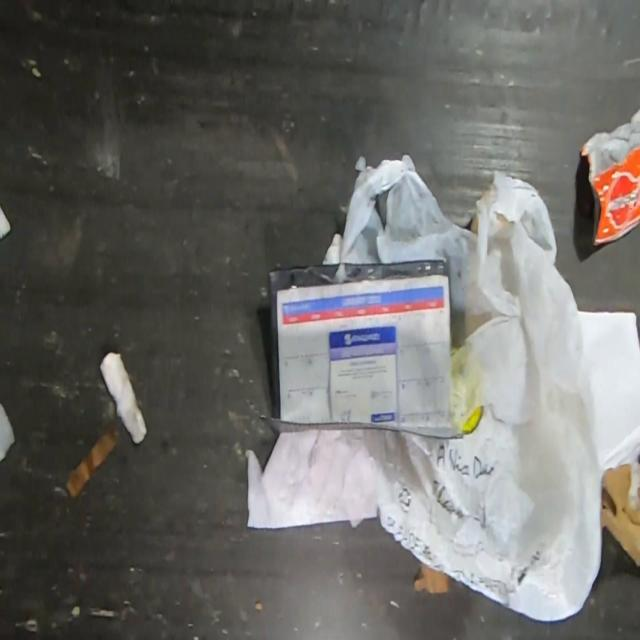cardboard: (601, 460, 640, 566)
soft_plastic: (339, 154, 603, 622), (258, 262, 464, 440), (580, 105, 640, 246)
